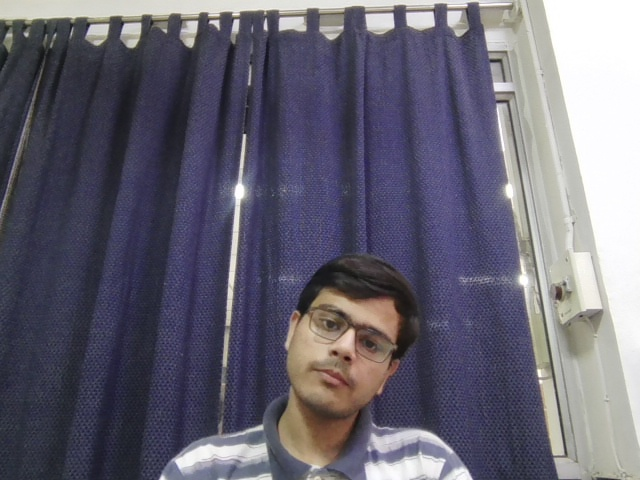face: (281, 253, 420, 415)
